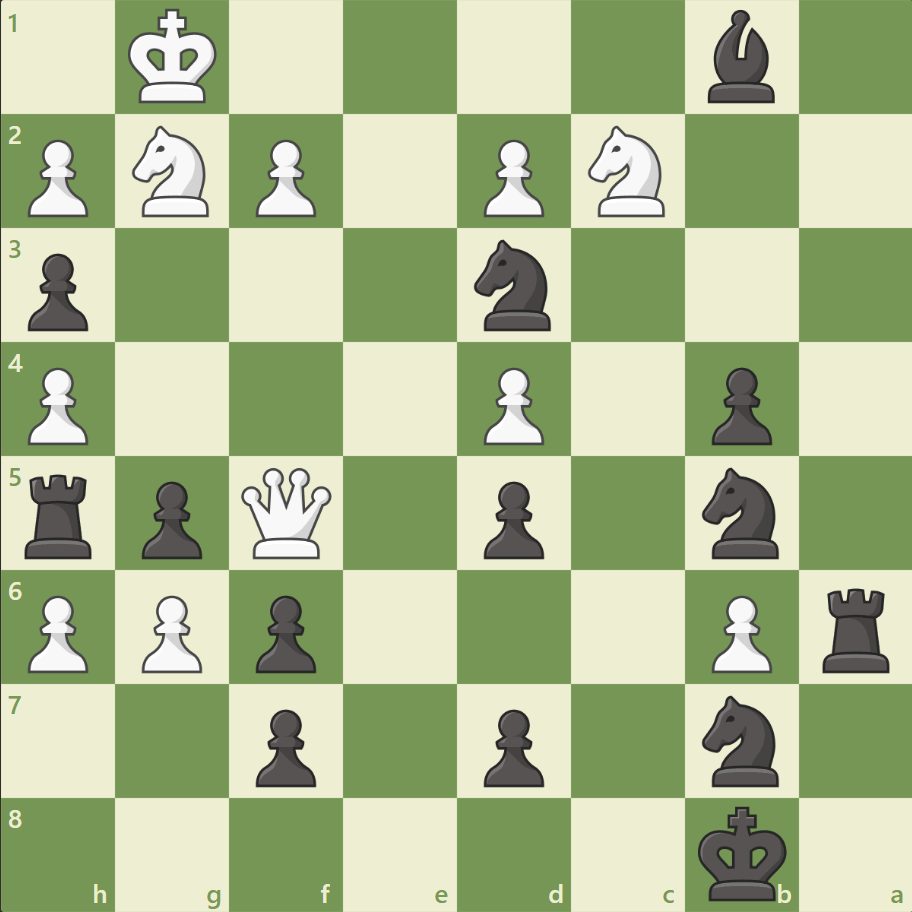K: (124, 4, 224, 112)
N: (124, 121, 222, 223), (579, 121, 676, 223)
P: (701, 586, 776, 677), (133, 586, 208, 677), (20, 586, 95, 677), (474, 359, 549, 450), (20, 359, 95, 450), (474, 132, 549, 223), (247, 132, 322, 223), (20, 132, 95, 223)
Q: (237, 463, 336, 562)
b: (698, 6, 782, 109)
k: (692, 798, 792, 906)
n: (692, 688, 789, 791), (692, 461, 789, 564), (465, 234, 562, 337)
p: (474, 700, 549, 791), (247, 700, 322, 791), (247, 586, 322, 677), (474, 473, 549, 564), (133, 473, 208, 564), (701, 359, 776, 450), (20, 246, 95, 337)
r: (814, 579, 897, 676), (19, 466, 102, 563)
